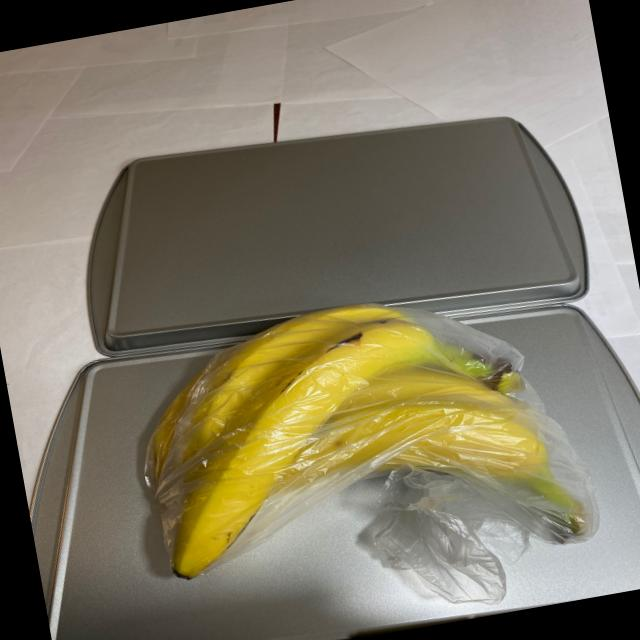banana: (110, 262, 620, 613)
